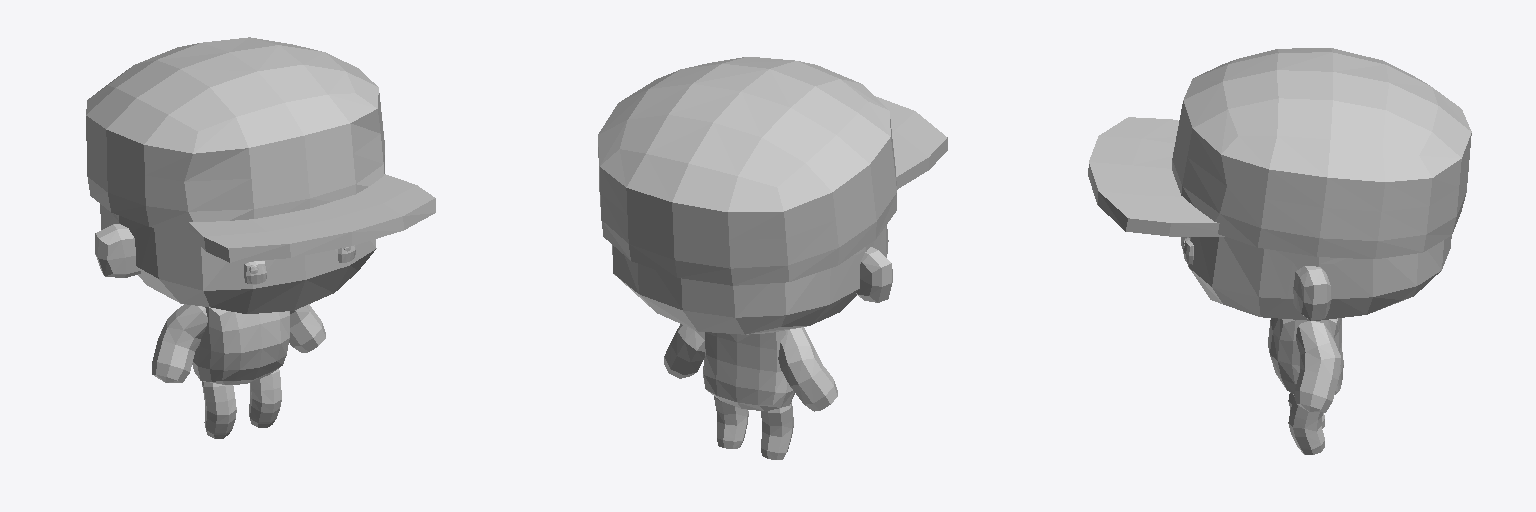
The model's file is idle_0014.obj.
3 views of the same model, side by side, from view 1: azimuth 30°, elevation 25°; view 2: azimuth 150°, elevation 25°; view 3: azimuth 270°, elevation 25° (orthographic).
Visible parts, largest first — view 1: Object_41, Object_42, Object_36, Object_44, Object_38; view 2: Object_41, Object_44, Object_36, Object_42; view 3: Object_41, Object_36, Object_42, Object_44.
Part boxes in pixels (x1,y1,x2,y2): Object_41: (86,37,384,232); Object_42: (184,109,435,262); Object_36: (95,204,376,313); Object_44: (152,304,325,438); Object_38: (244,245,356,284); Object_41: (598,57,896,285); Object_44: (664,324,837,459); Object_36: (612,225,892,334); Object_42: (875,96,947,189); Object_41: (1183,48,1471,258); Object_36: (1181,236,1451,320); Object_42: (1088,101,1226,236); Object_44: (1268,318,1343,454).
Bounding box in the file's own units: 0.9691 × 1.22 × 1.14.